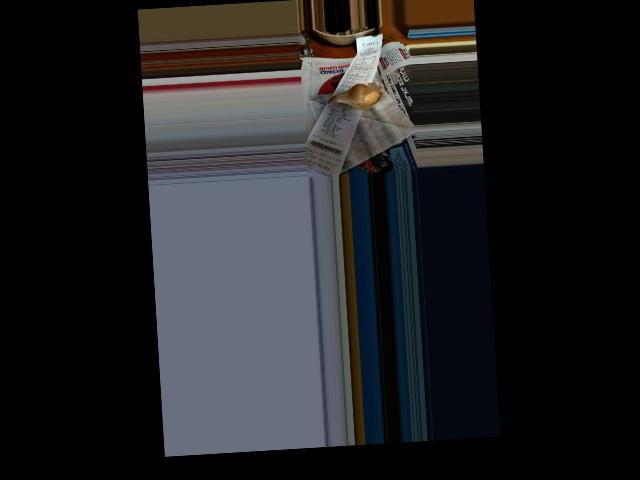onion: (343, 84, 382, 111)
